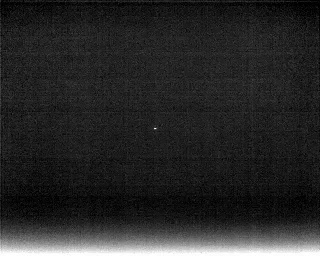AIRPLANE: (151, 124, 159, 133)
